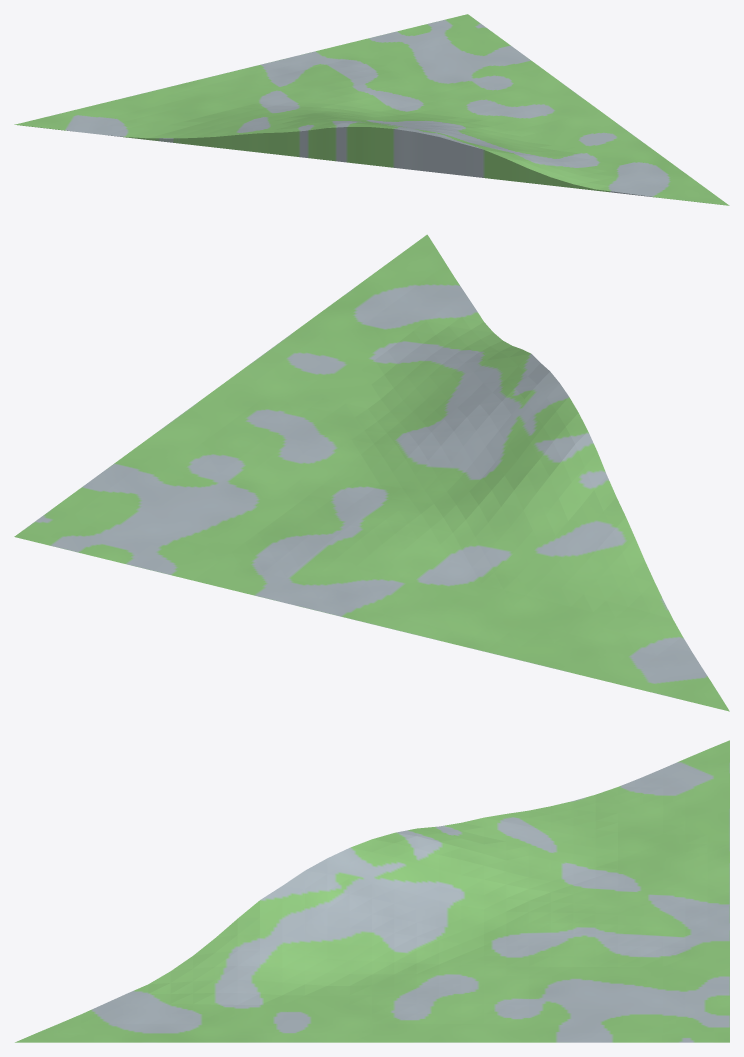
Rendered from Grass_RockyGround_03_SE.obj.
3 renders of one model, top to bottom at view 1: azimuth 30°, elevation 25°; view 2: azimuth 150°, elevation 25°; view 3: azimuth 270°, elevation 25°, orthographic. The views are drawn at different scales.
Bounding box in the file's own units: 10 × 0.8185 × 10.
1 material, 1 textured.
